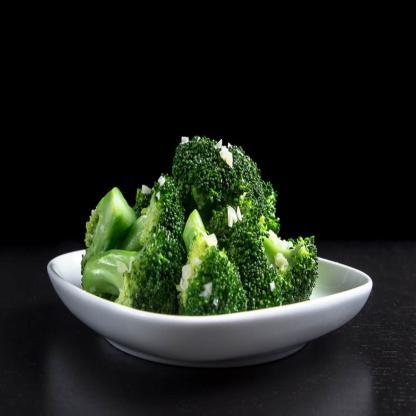broccoli: (82, 136, 319, 323)
